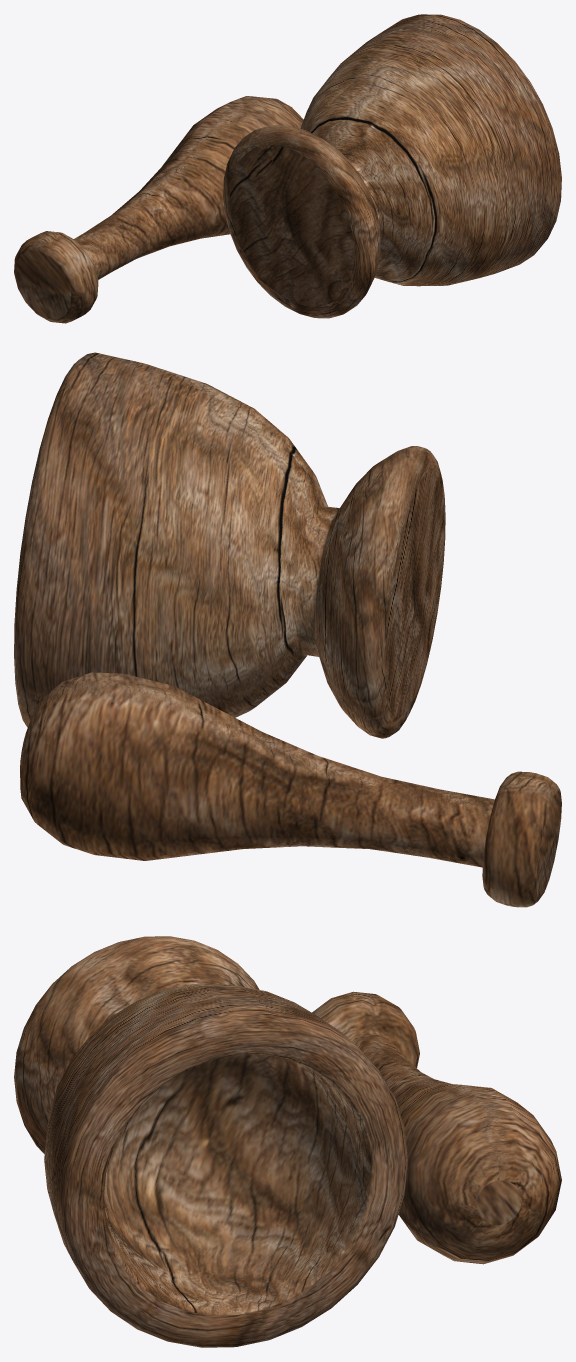
Rendered from Motar set.glb.
3 views of the same model, one above another, from view 1: azimuth 30°, elevation 25°; view 2: azimuth 150°, elevation 25°; view 3: azimuth 270°, elevation 25° (orthographic). The views are drawn at different scales.
Parts seen in each view (by area): view 1: mortar set; view 2: mortar set; view 3: mortar set.
Part boxes in pixels (left/top/right/bottom): mortar set: left=14, top=14, right=561, bottom=323; mortar set: left=14, top=352, right=561, bottom=907; mortar set: left=14, top=936, right=561, bottom=1347.
Bounding box in the file's own units: 0.4211 × 0.2347 × 0.3527.
1 material, 1 textured.
